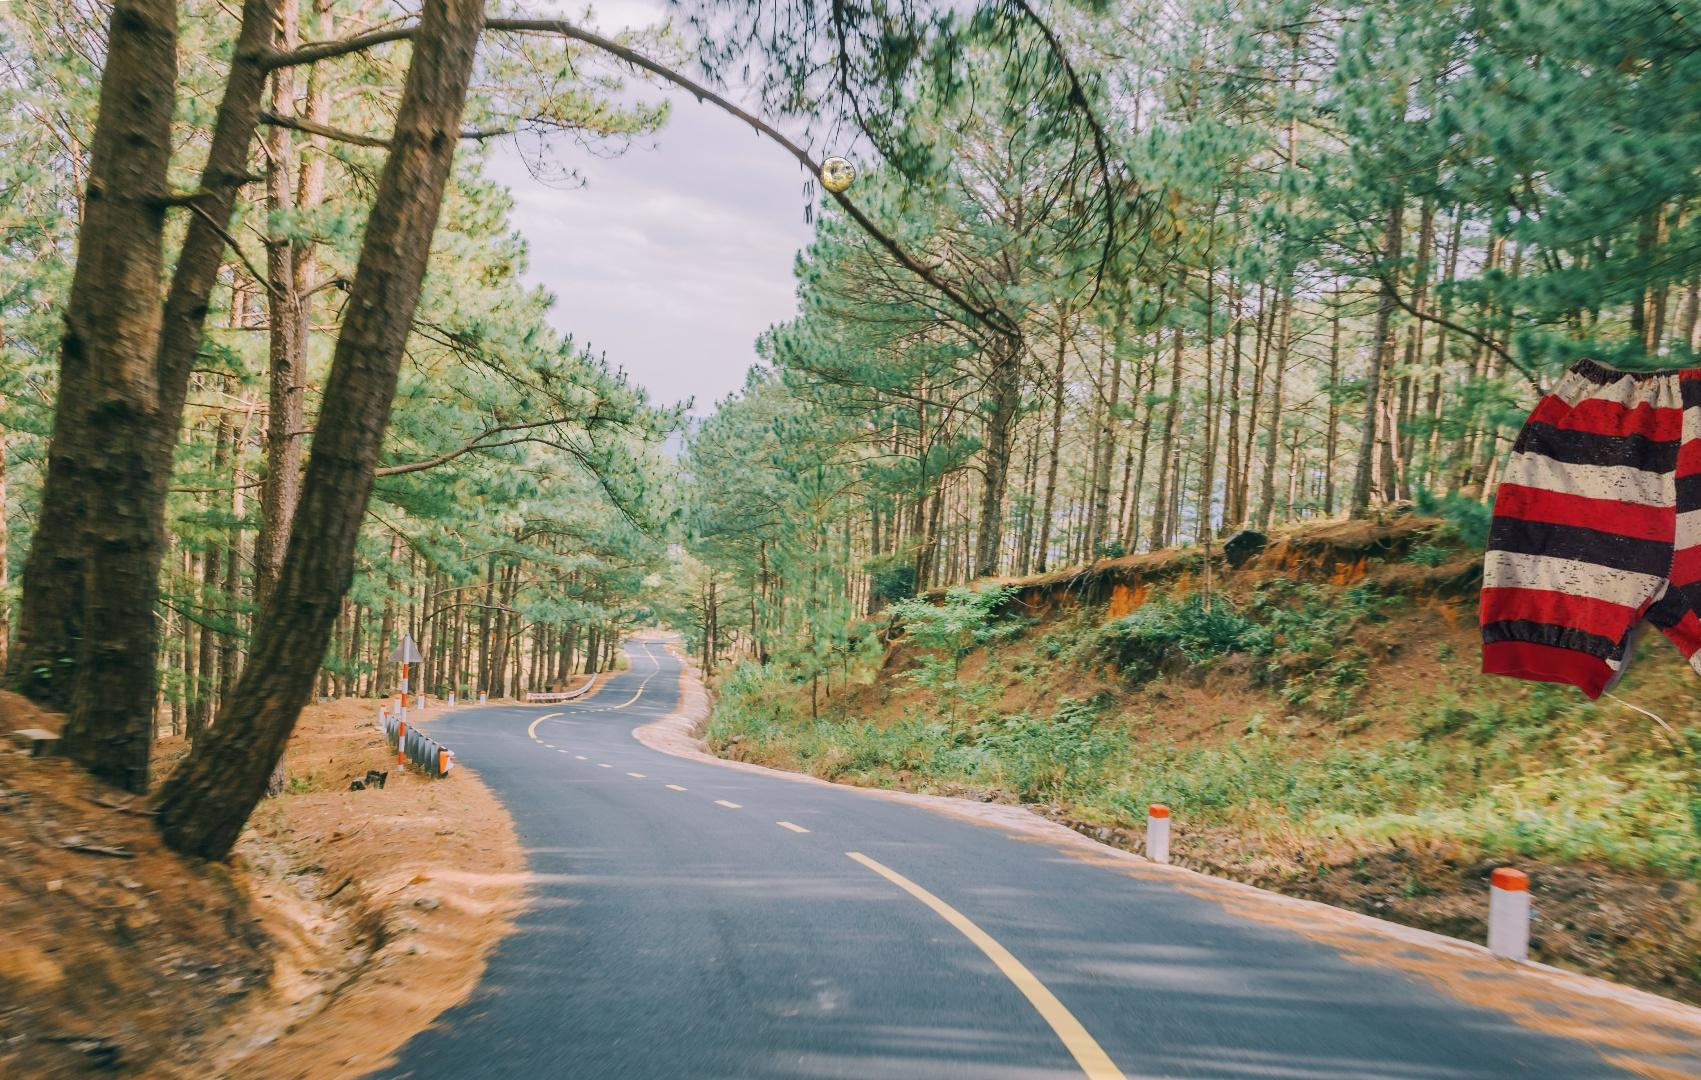biological: (816, 154, 917, 203)
clothes: (1475, 347, 1701, 722)
